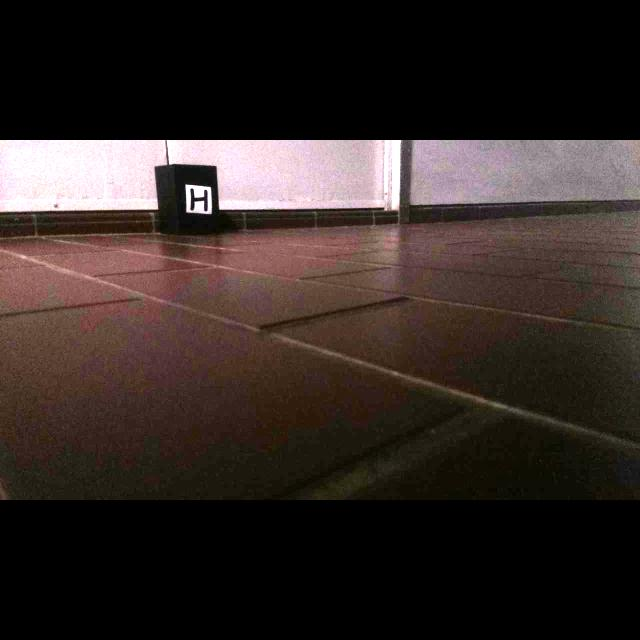H: (190, 188, 208, 211)
